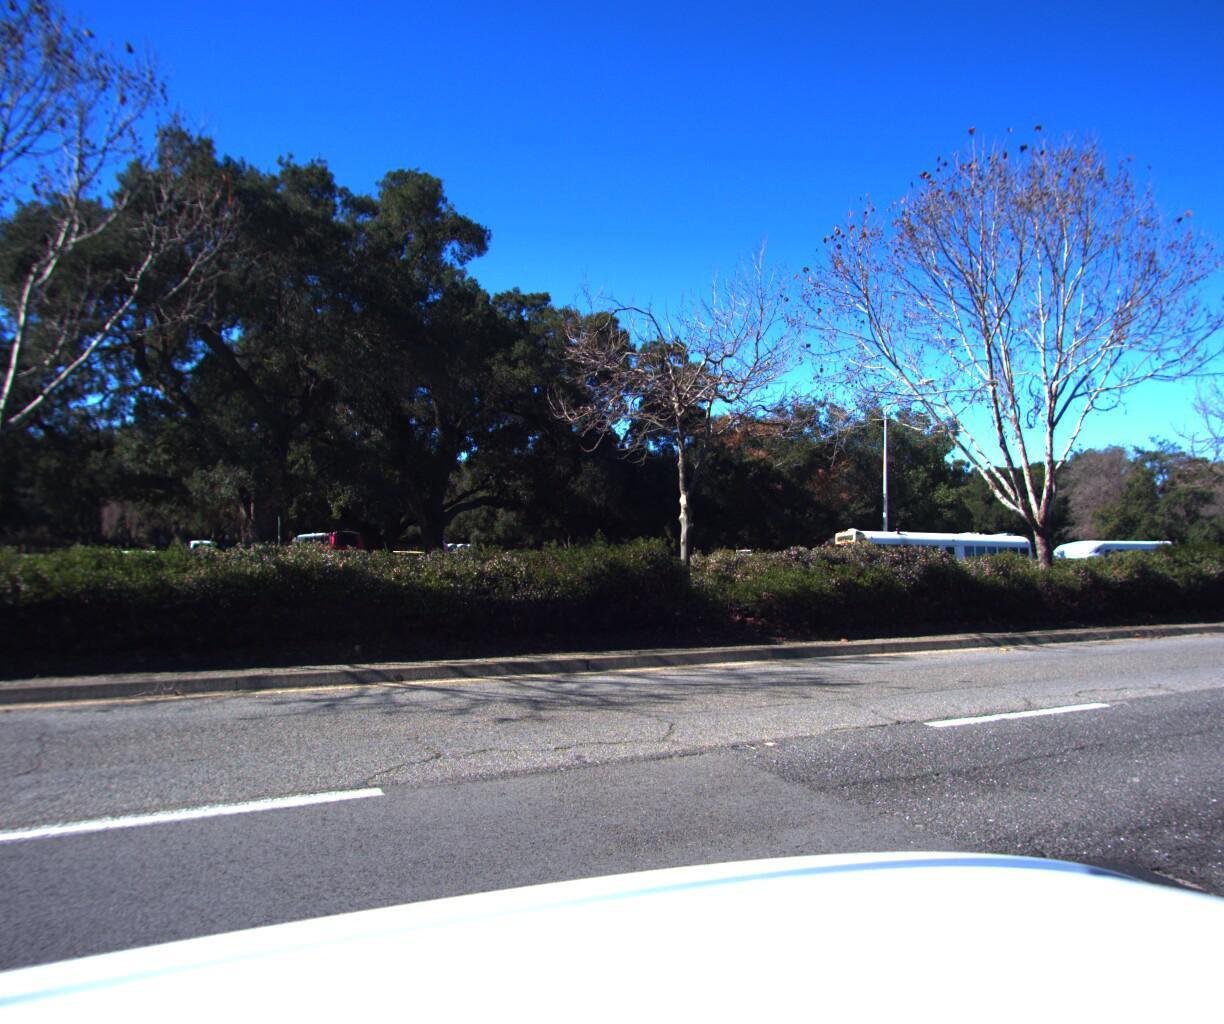bus: (796, 521, 1039, 592)
other_vehicle: (1033, 535, 1178, 583)
